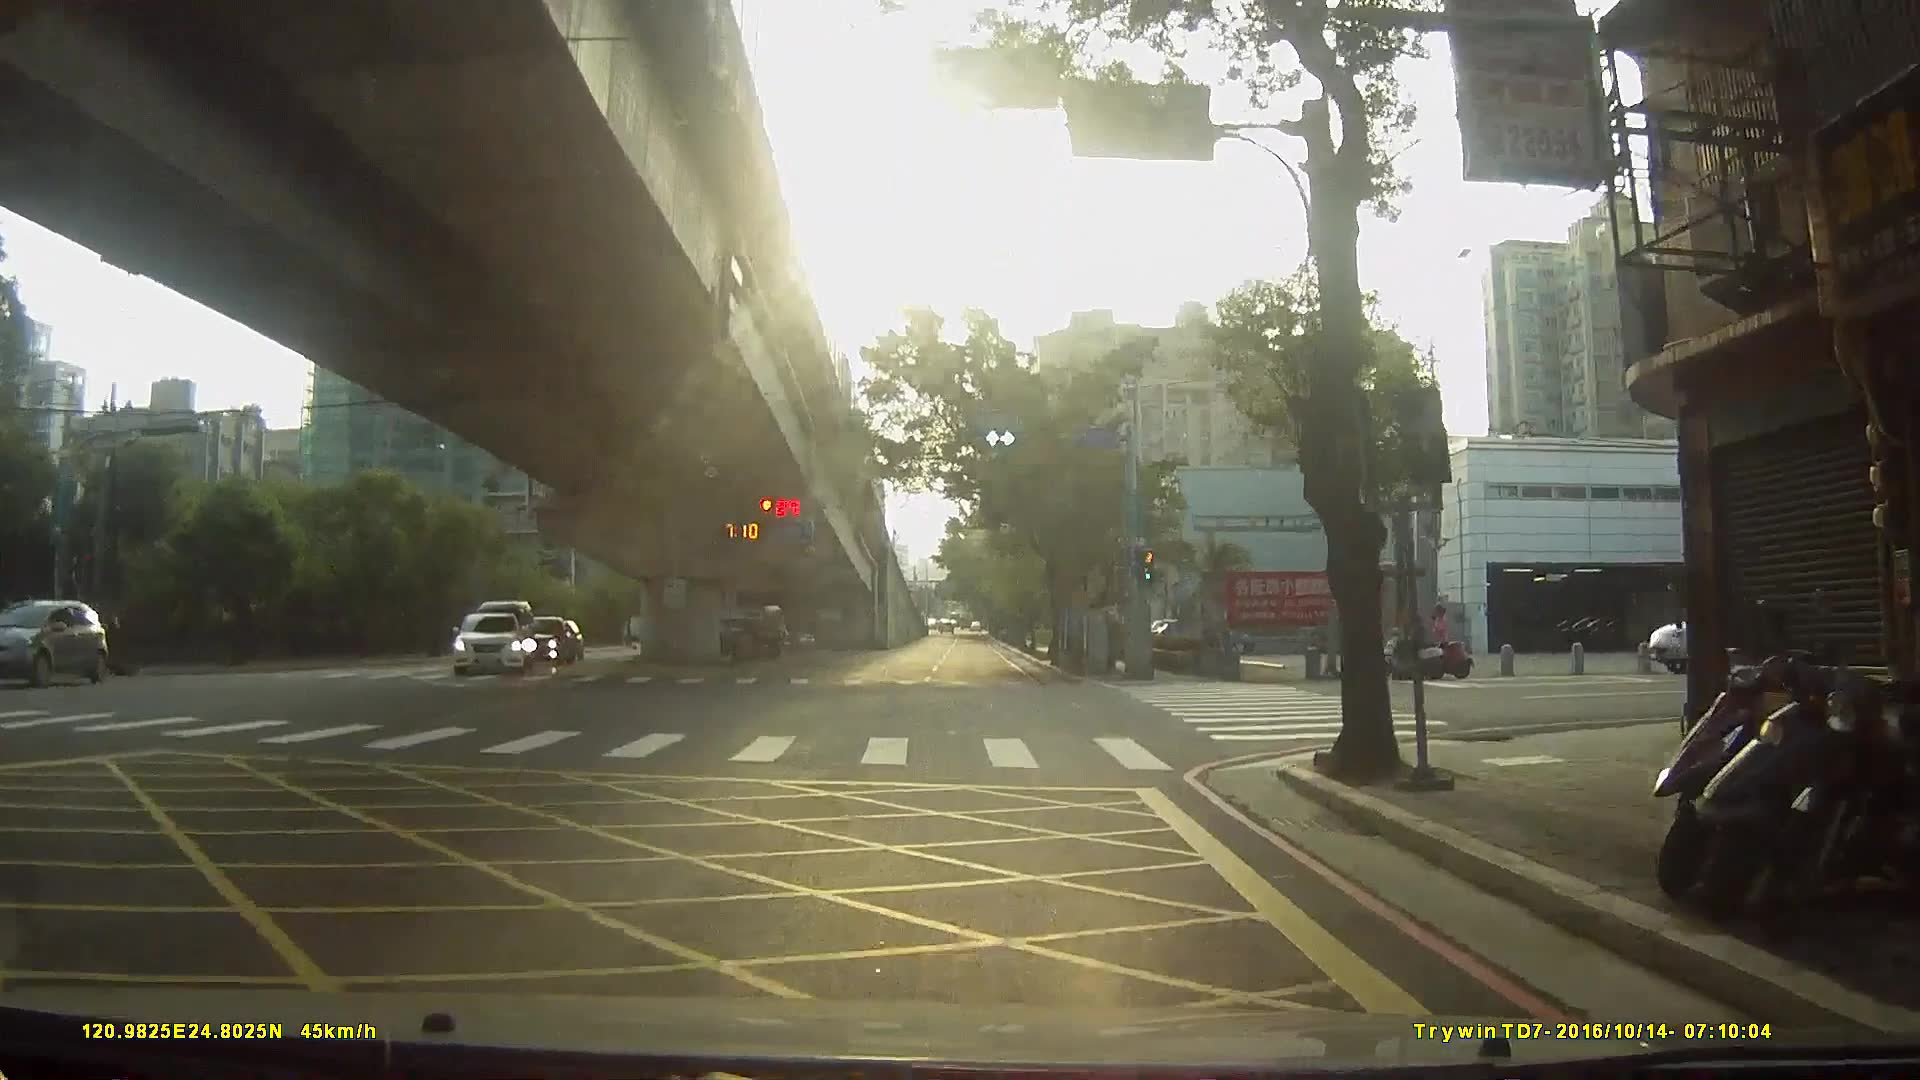rider: (1375, 603, 1449, 681)
vehicle: (1, 596, 112, 686), (444, 608, 523, 674), (691, 613, 785, 663), (510, 614, 575, 663)
